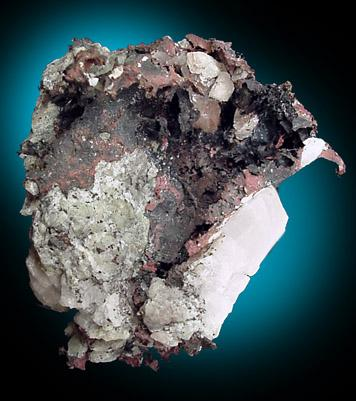copper: (19, 35, 318, 264)
